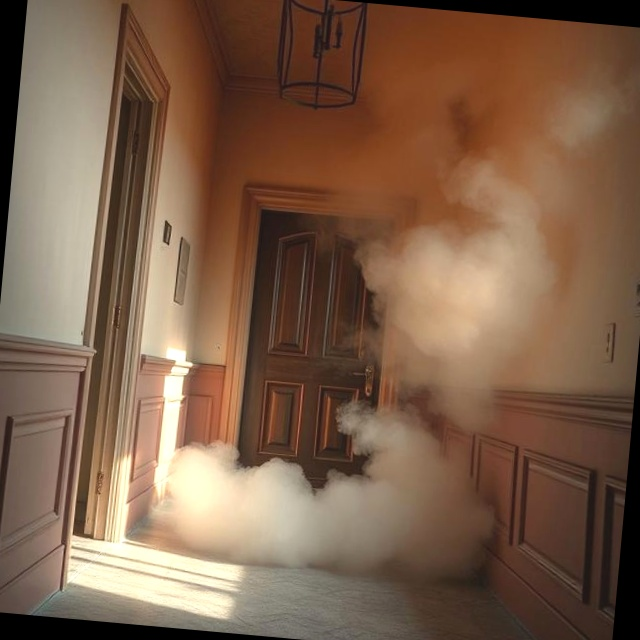smoke: (119, 64, 640, 603)
